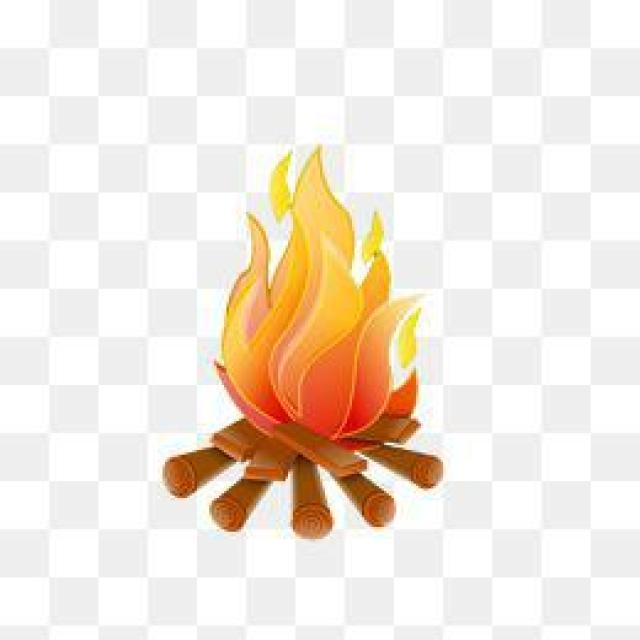fire: (178, 111, 443, 435)
